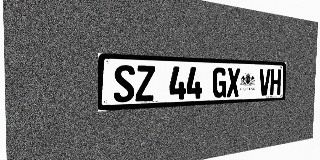4: (169, 66, 186, 100), (186, 67, 202, 99)
G: (212, 67, 227, 98)
H: (270, 69, 281, 95)
S: (114, 65, 135, 103)
V: (259, 69, 270, 96)
X: (227, 68, 240, 97)
Z: (135, 65, 155, 102)
